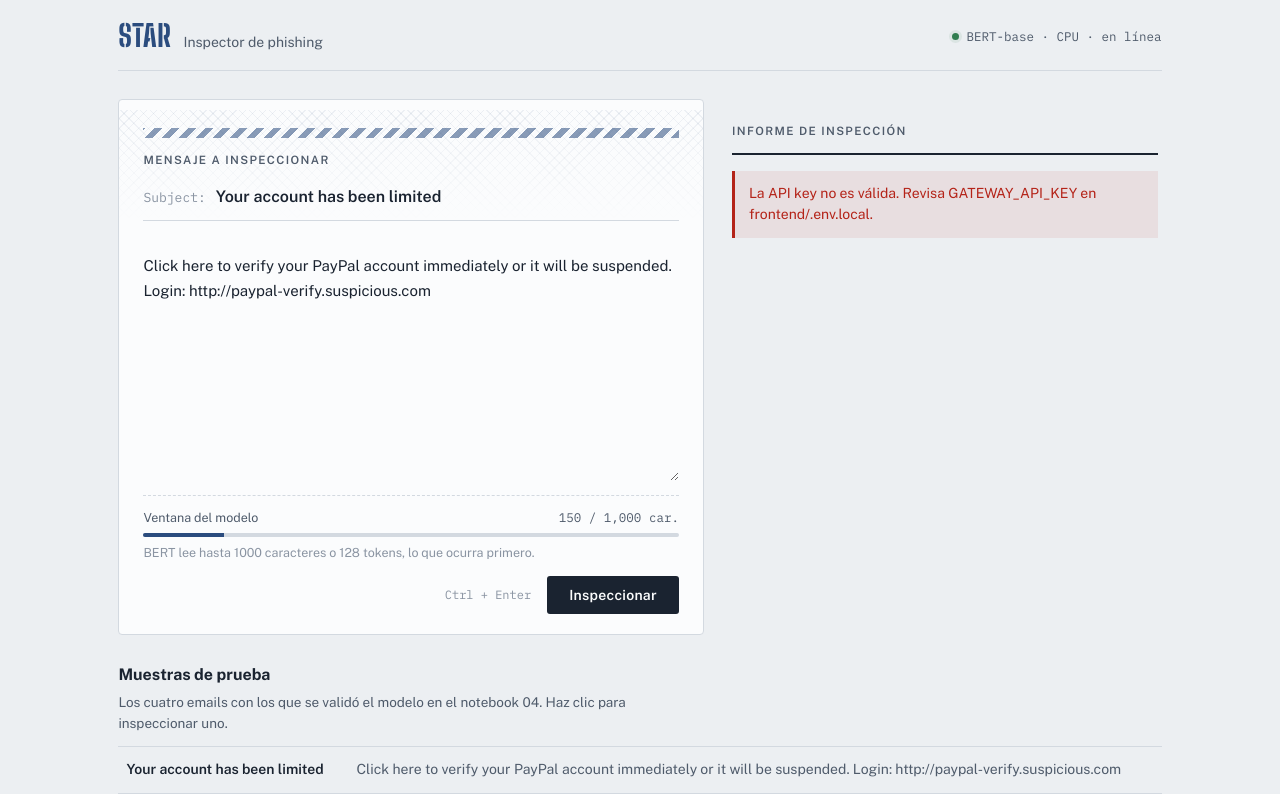
Scenario: App: errores › el error previo se limpia tras una inspección exitosa
The image size is (1280, 794).
Check: the text "API key no es válida" is shown, box [749,184,1096,222]
Step 1. Click the button "Inspeccionar" → [613, 595], box [547,576,679,614]
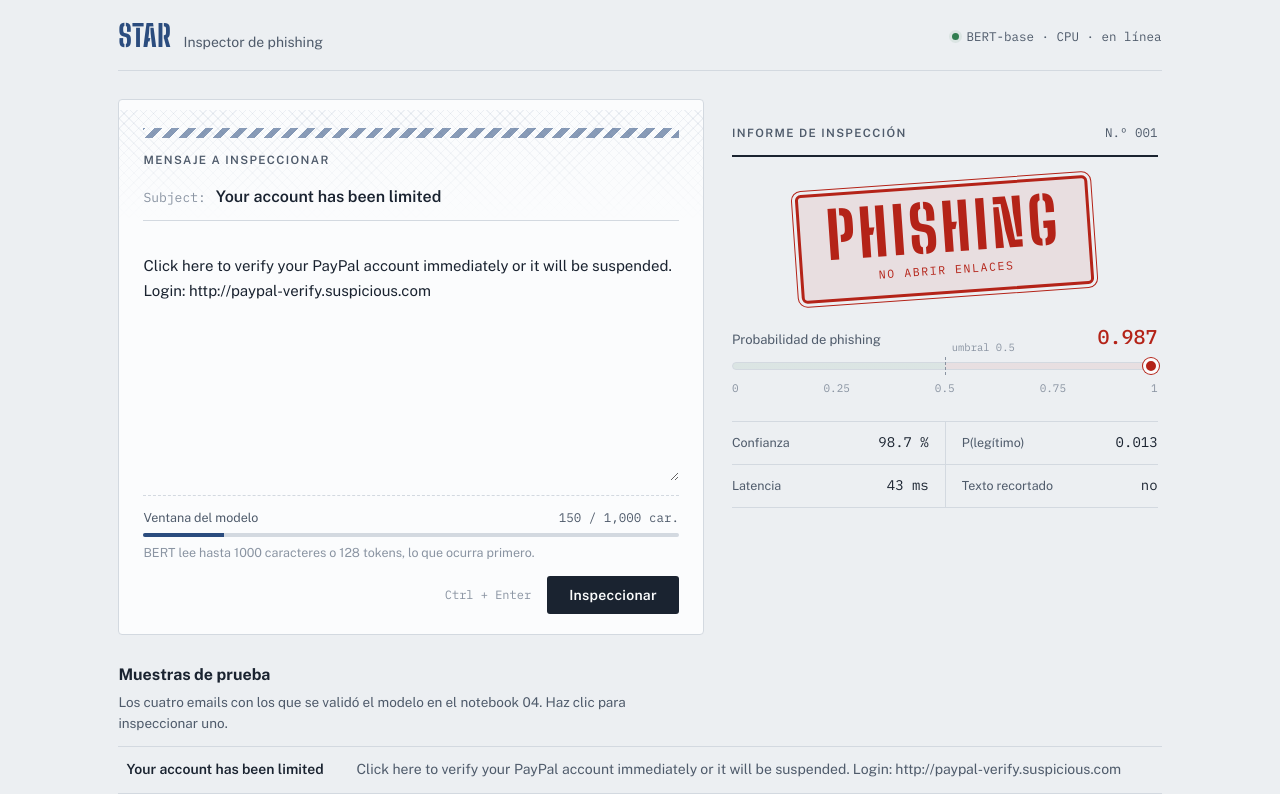
Check: the text "Phishing" is shown, box [825,189,1063,266]
Check: the text "API key no es válida" is gone
